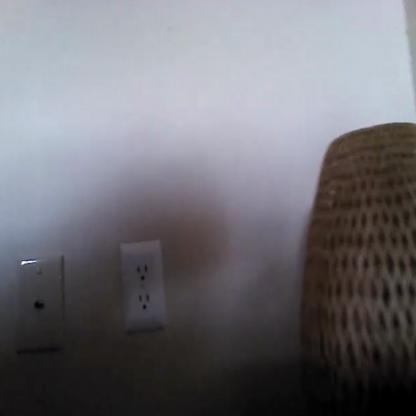OUTLET: (120, 240, 167, 332)
